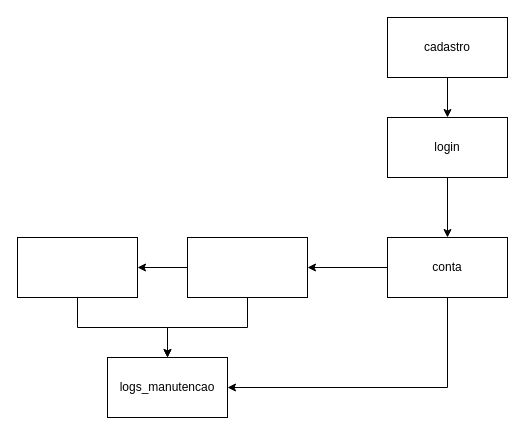
Image size: 525x435. Some labels were removed from this diagram. The box of each missing label's shape, as (x1, y1, x2, y2) in pixels:
area: (186, 236, 308, 298)
equipamentos: (16, 236, 138, 298)
